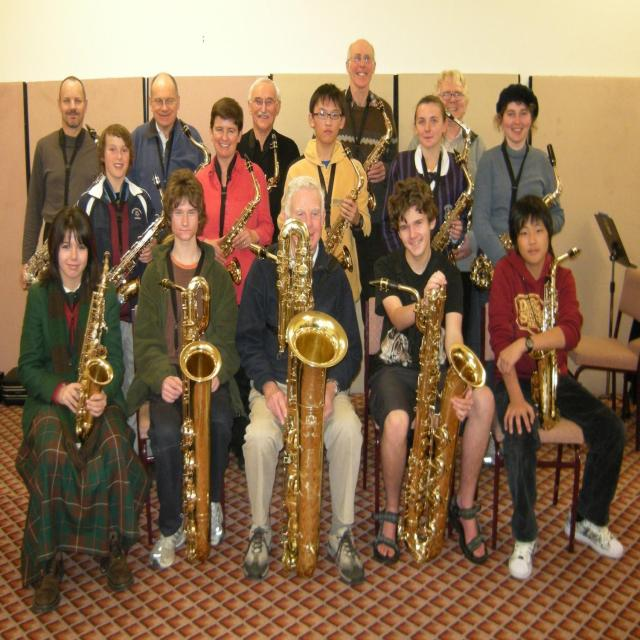saxophone: (366, 276, 492, 568), (278, 216, 351, 581), (160, 276, 225, 568), (529, 246, 581, 431), (68, 249, 112, 442), (104, 172, 166, 305), (212, 154, 264, 273), (322, 139, 364, 259)
